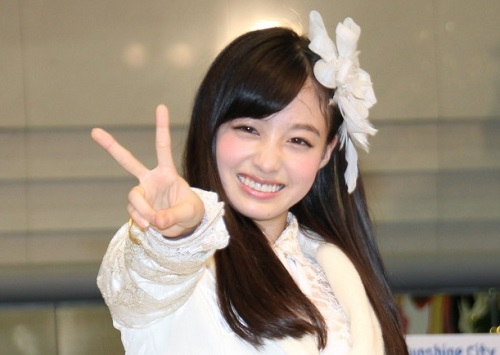face: (210, 70, 339, 220)
hand: (92, 103, 205, 237)
